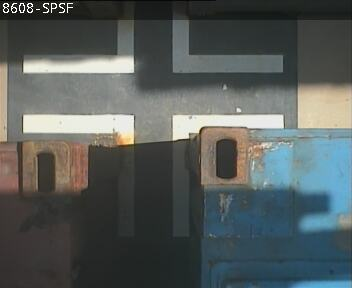groundmarker_1: (20, 113, 285, 236), (22, 1, 284, 71)
